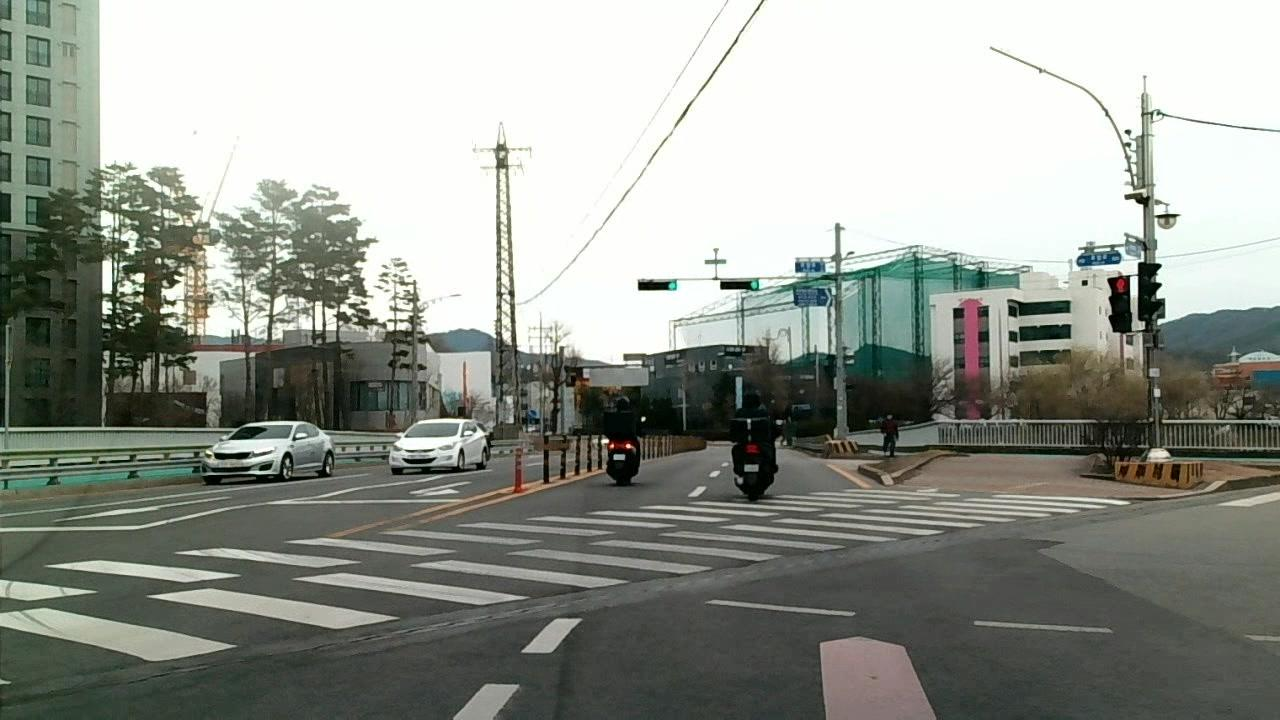banner: (559, 562, 755, 612), (340, 595, 554, 634), (766, 530, 963, 564)
